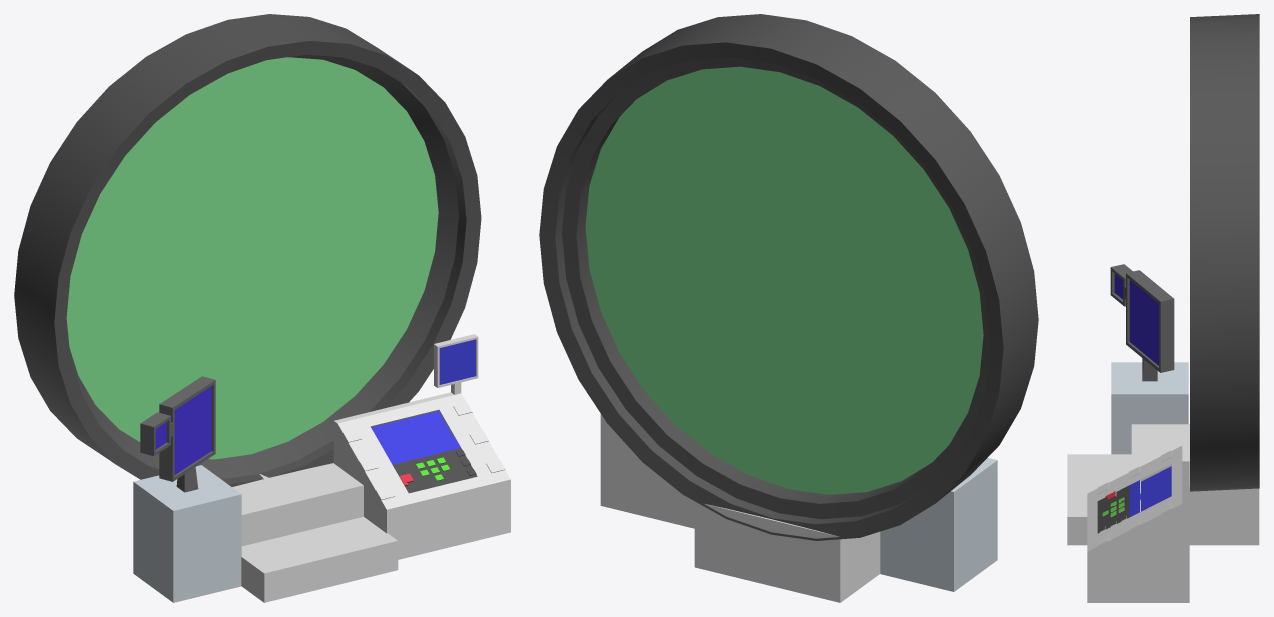
Rendered from portal.fbx.
The picture shows the model from 3 angles, left to right: view 1: azimuth 30°, elevation 25°; view 2: azimuth 150°, elevation 25°; view 3: azimuth 270°, elevation 25°; orthographic projection. The views are drawn at different scales.
Visible parts, largest first — view 1: Circle, Cube.001, Cube.002, Cube; view 2: Circle, Cube, Cube.002, Cube.001; view 3: Circle, Cube.001, Cube.002, Cube.
Part boxes in pixels (x1,y1,x2,y2): Circle: (14,14,481,486); Cube.001: (333,334,510,559); Cube.002: (133,376,241,602); Cube: (232,463,398,602); Circle: (539,14,1038,540); Cube: (694,501,880,602); Cube.002: (880,458,997,591); Cube.001: (600,414,694,528); Circle: (1190,14,1259,491); Cube.001: (1087,442,1189,602); Cube.002: (1110,264,1188,454); Cube: (1067,424,1259,545).
Bounding box in the file's own units: 696 × 763 × 279.
